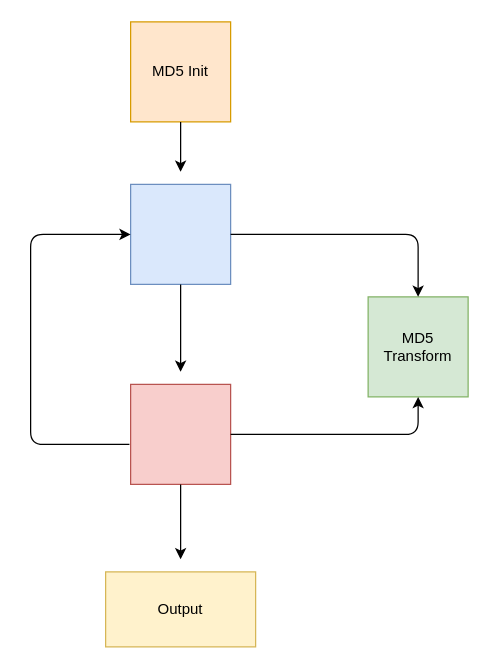
Image size: 490x669. Some labels were removed from this diagram. The box of each missing label's shape, as (x1, y1, x2, y2) in pixels:
MD5 Final: (129, 383, 231, 484)
MD5 Update: (129, 183, 231, 284)
